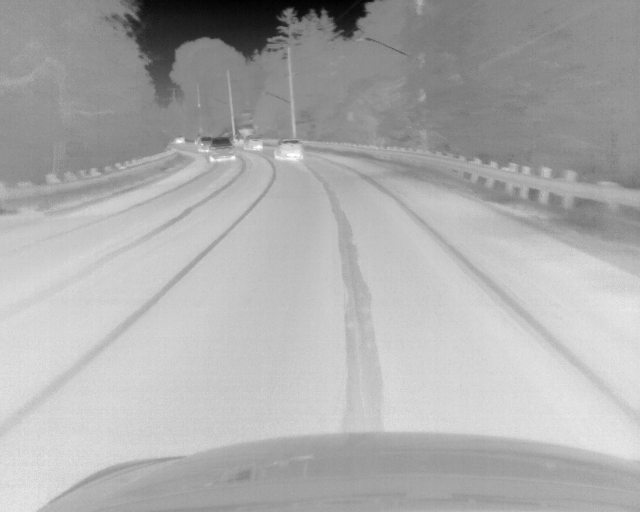car: (206, 137, 234, 163), (272, 139, 302, 161), (241, 135, 263, 152), (196, 136, 210, 153)
